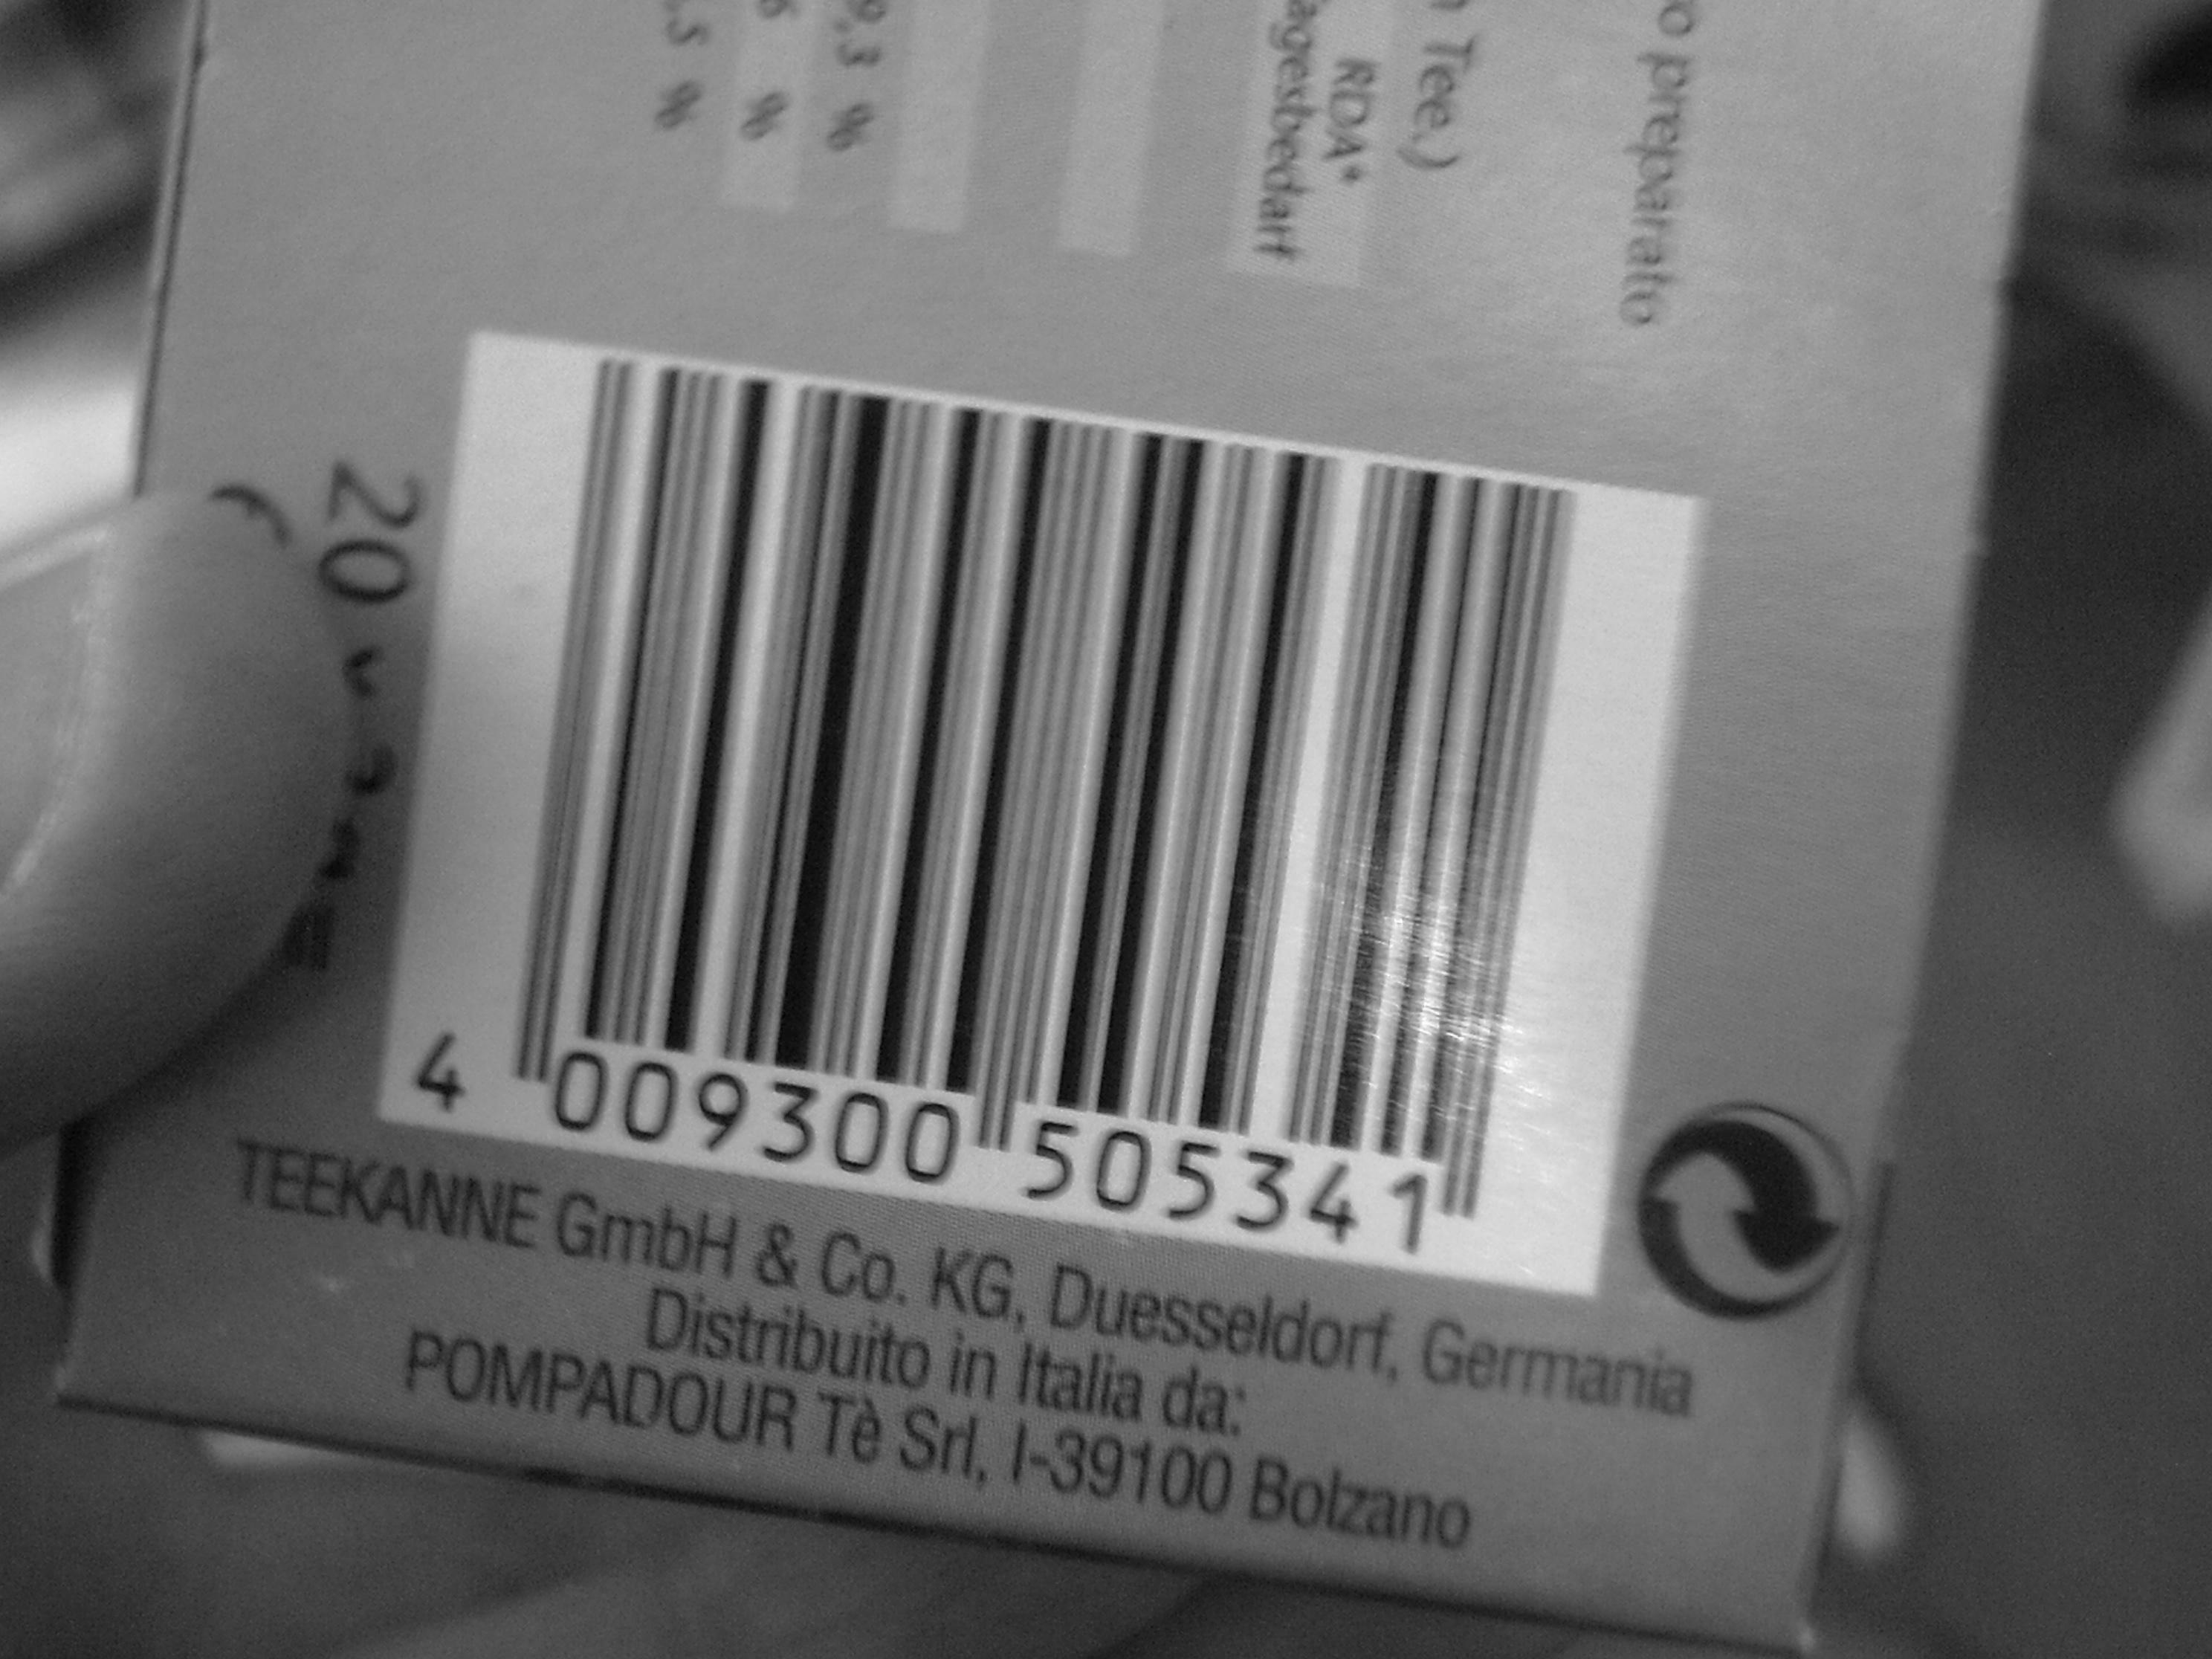Barcode: (423, 423, 1663, 1154)
